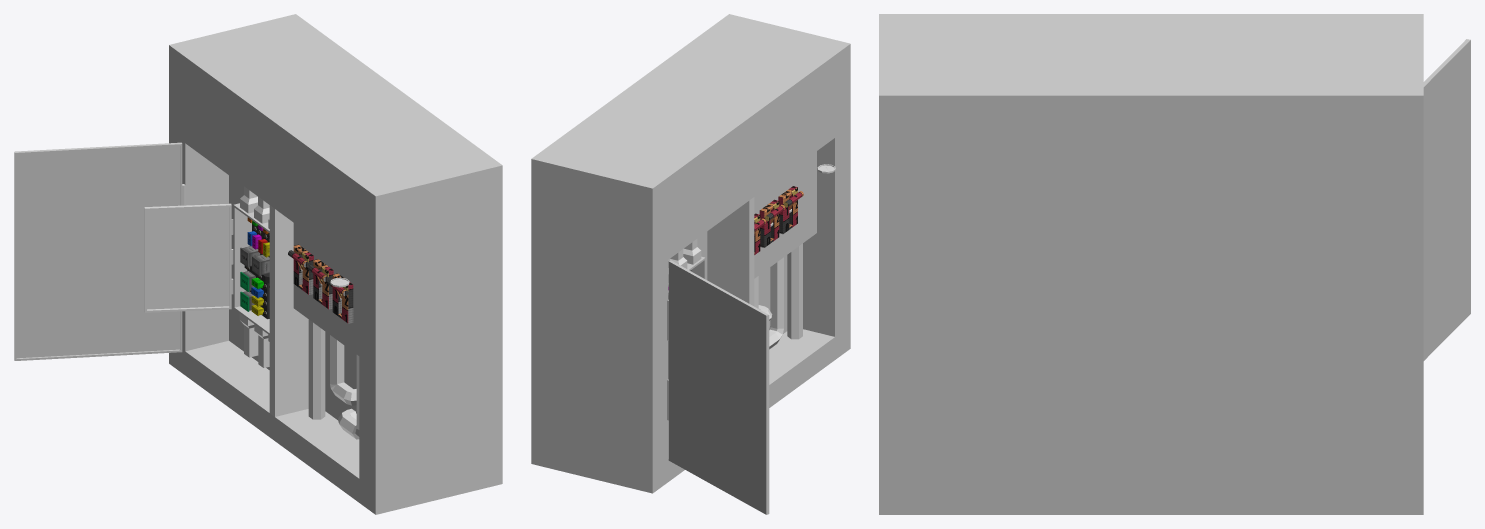
Rendered from Generator_guage_Test.glb.
3 views of the same model, side by side, from view 1: azimuth 30°, elevation 25°; view 2: azimuth 150°, elevation 25°; view 3: azimuth 270°, elevation 25° (orthographic). The views are drawn at different scales.
Visible parts, largest first — view 1: Cube.132, Cube.254, Cube.244, Cube.148, Cylinder.108, Cube.245, Cube.246, Cube.255, Cube.248, Cube.250; view 2: Cube.132, Cube.254, Cube.148, Cylinder.109, Cube.255, Cube.248, Cube.250; view 3: Cube.132, Cube.254.
Boxes of the visible parts, box(x1,y1,x2,y2) form: Cube.132: box(169, 14, 502, 514); Cube.254: box(14, 142, 182, 360); Cube.244: box(144, 203, 231, 312); Cube.148: box(269, 205, 308, 416); Cylinder.108: box(308, 319, 325, 419); Cube.245: box(330, 335, 356, 405); Cube.246: box(293, 244, 313, 294); Cube.255: box(338, 355, 359, 439); Cube.248: box(313, 259, 333, 309); Cube.250: box(332, 273, 353, 323); Cube.132: box(531, 14, 850, 493); Cube.254: box(668, 260, 769, 514); Cube.148: box(707, 197, 754, 306); Cylinder.109: box(787, 243, 802, 339); Cube.255: box(769, 257, 783, 349); Cube.248: box(759, 199, 779, 247); Cube.250: box(778, 186, 797, 234); Cube.132: box(879, 14, 1423, 514); Cube.254: box(1423, 39, 1470, 360).
Size of the model in its own units: 1.48 by 1.7 by 2.17.
6 materials, 5 textured.
